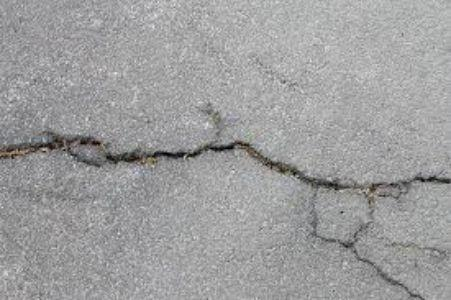crack: (3, 124, 451, 191), (304, 191, 451, 300)
